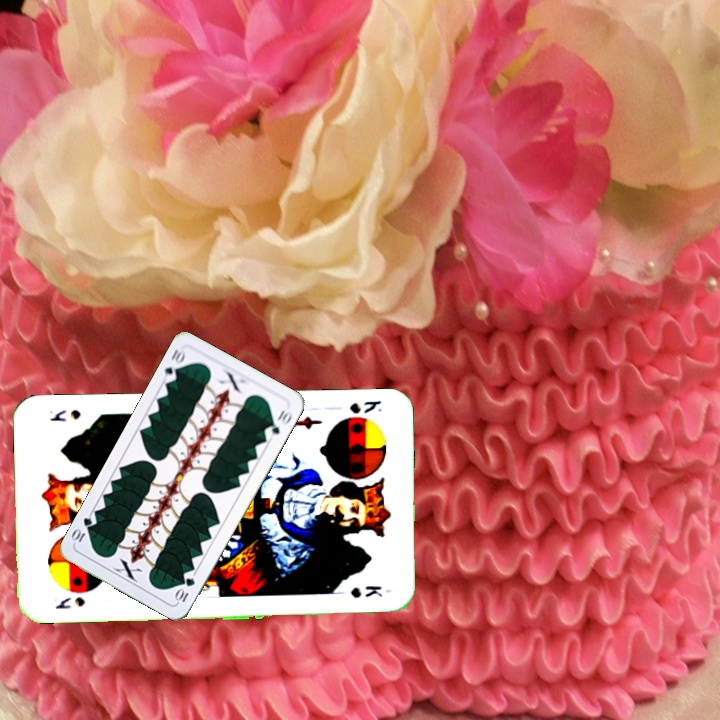G10: (160, 344, 189, 385), (171, 574, 198, 605)
SK: (346, 396, 385, 416), (51, 593, 87, 611)
